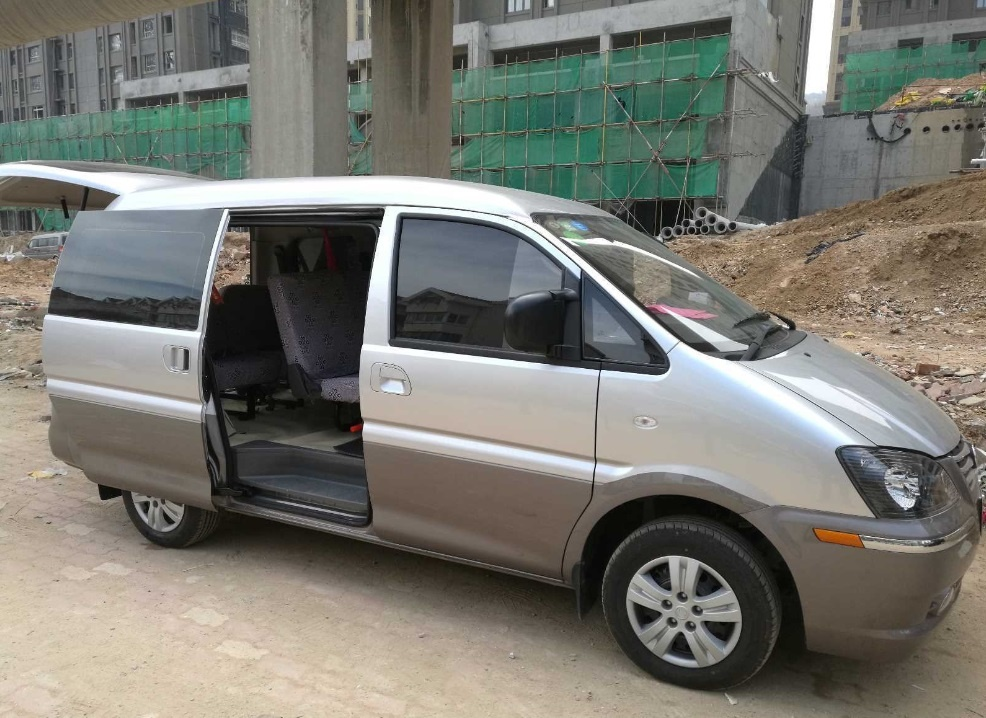minibus: (56, 155, 954, 697)
